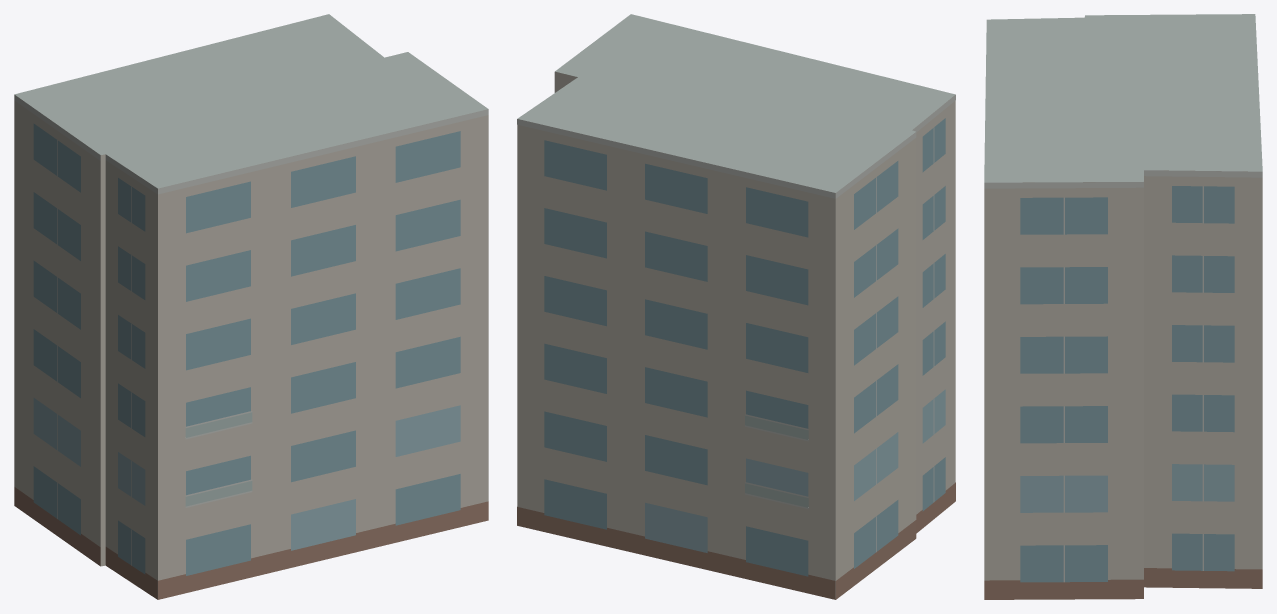
The model's file is survey-upis-32504715.glb.
3 renders of one model, left to right at view 1: azimuth 30°, elevation 25°; view 2: azimuth 150°, elevation 25°; view 3: azimuth 270°, elevation 25°, orthographic. The views are drawn at different scales.
Visible parts, largest first — view 1: survey-upis-32504715.tmp; view 2: survey-upis-32504715.tmp; view 3: survey-upis-32504715.tmp.
Part boxes in pixels (left/top/right/bottom): survey-upis-32504715.tmp: left=14, top=14, right=488, bottom=599; survey-upis-32504715.tmp: left=517, top=14, right=955, bottom=599; survey-upis-32504715.tmp: left=984, top=14, right=1262, bottom=599.
Size of the model in its own units: 14.75 by 17 by 10.3.
